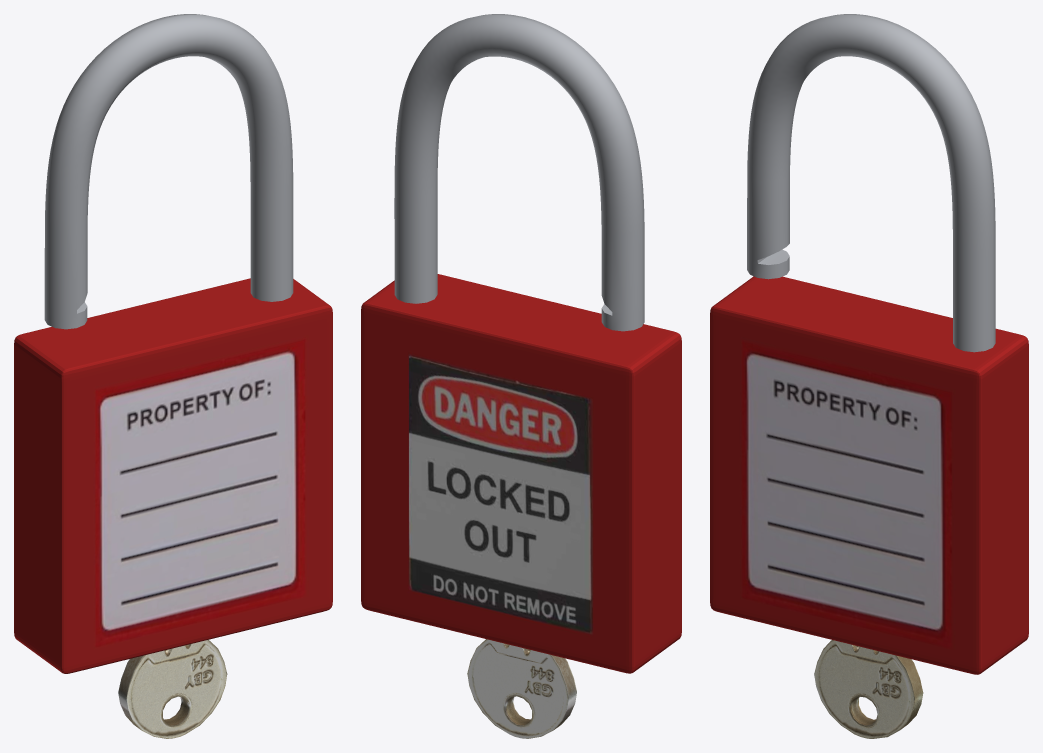
File: candado.glb
3 renders of one model, left to right at view 1: azimuth 30°, elevation 25°; view 2: azimuth 150°, elevation 25°; view 3: azimuth 330°, elevation 25°, orthographic.
Visible parts, largest first — view 1: Lock_1, Lock_1_0, Key_3; view 2: Lock_1, Lock_1_0, Key_3; view 3: Lock_1, Lock_1_0, Key_3.
Part boxes in pixels (x1=…): Lock_1: x1=14, y1=278, x2=332, y2=673; Lock_1_0: x1=44, y1=14, x2=293, y2=329; Key_3: x1=118, y1=640, x2=227, y2=738; Lock_1: x1=361, y1=274, x2=681, y2=673; Lock_1_0: x1=394, y1=14, x2=644, y2=331; Key_3: x1=467, y1=639, x2=576, y2=738; Lock_1: x1=710, y1=276, x2=1028, y2=674; Lock_1_0: x1=747, y1=14, x2=995, y2=352; Key_3: x1=814, y1=640, x2=923, y2=738.
Size of the model in its own units: 0.0794 by 0.1993 by 0.025.
Materials: 3 (2 with a texture image).
